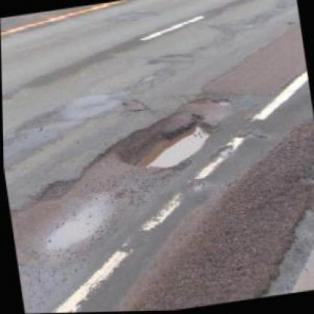Hueco: (112, 107, 222, 179), (35, 176, 76, 206), (212, 95, 233, 109)
